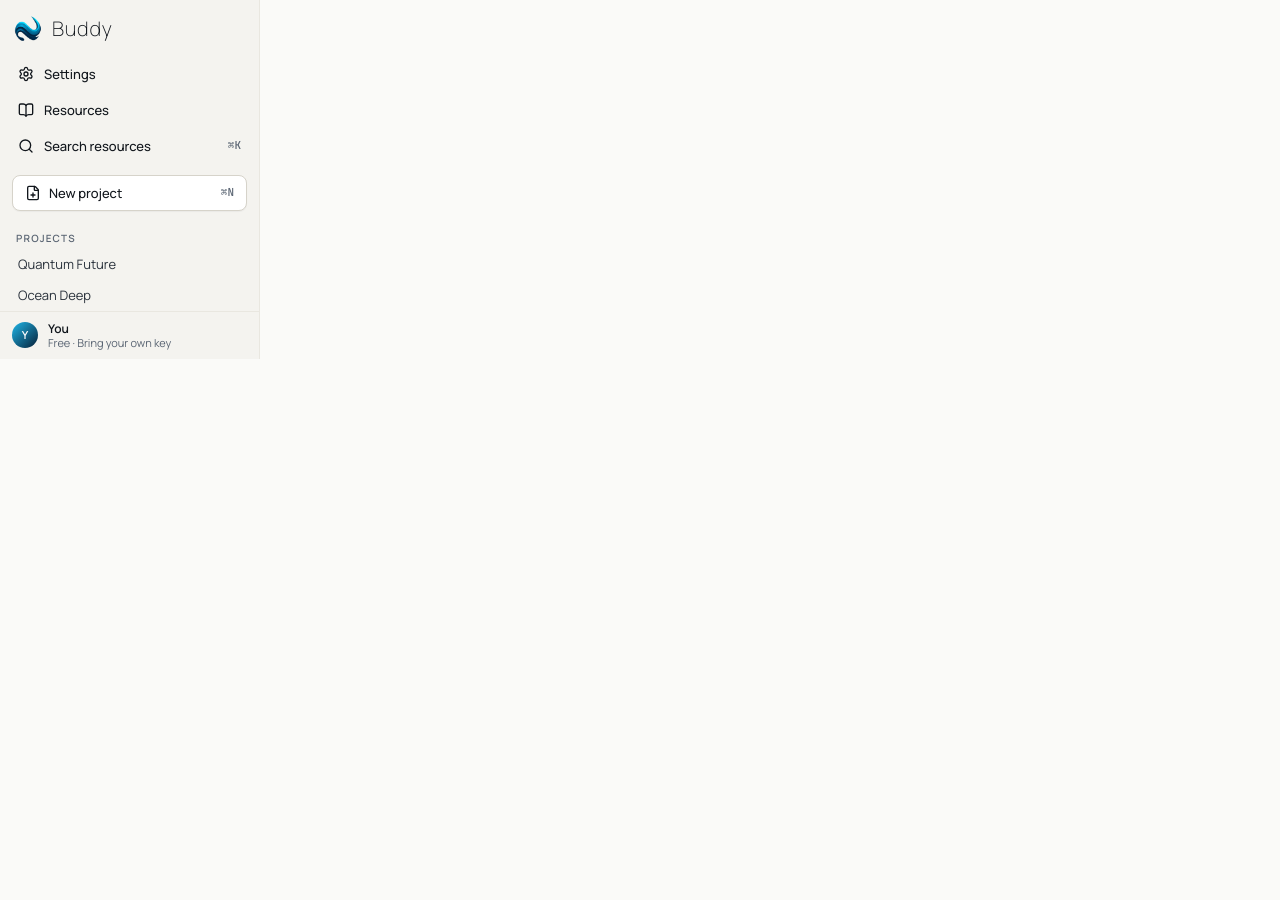
Test: Sidebar — delete confirmation › opens a confirmation dialog when Delete project is clicked
Right-click the button "Quantum Future" at coordinates (130, 264), box [8,250,251,280]
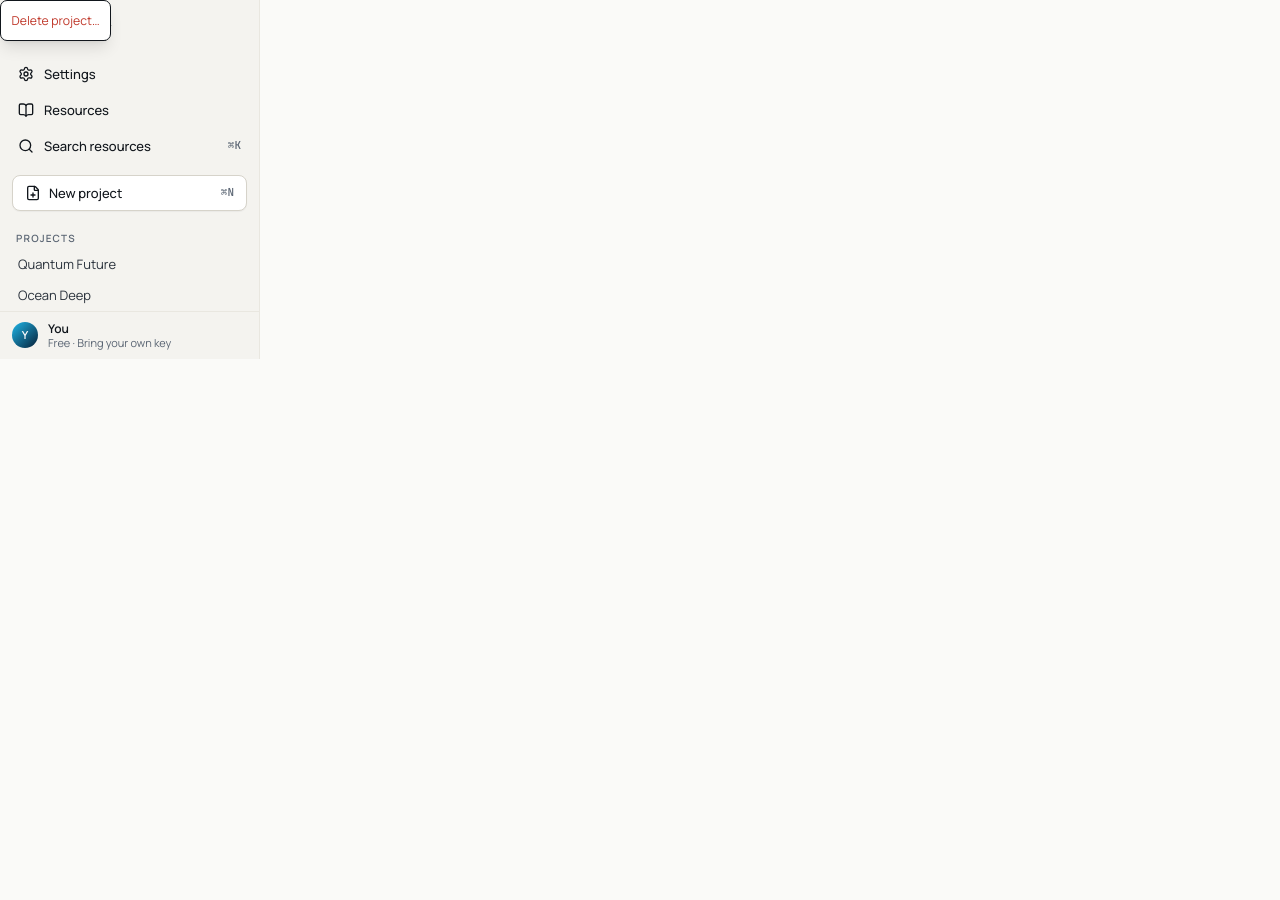
Click the menu item "Delete project…" at coordinates (56, 20), box [1,4,110,36]
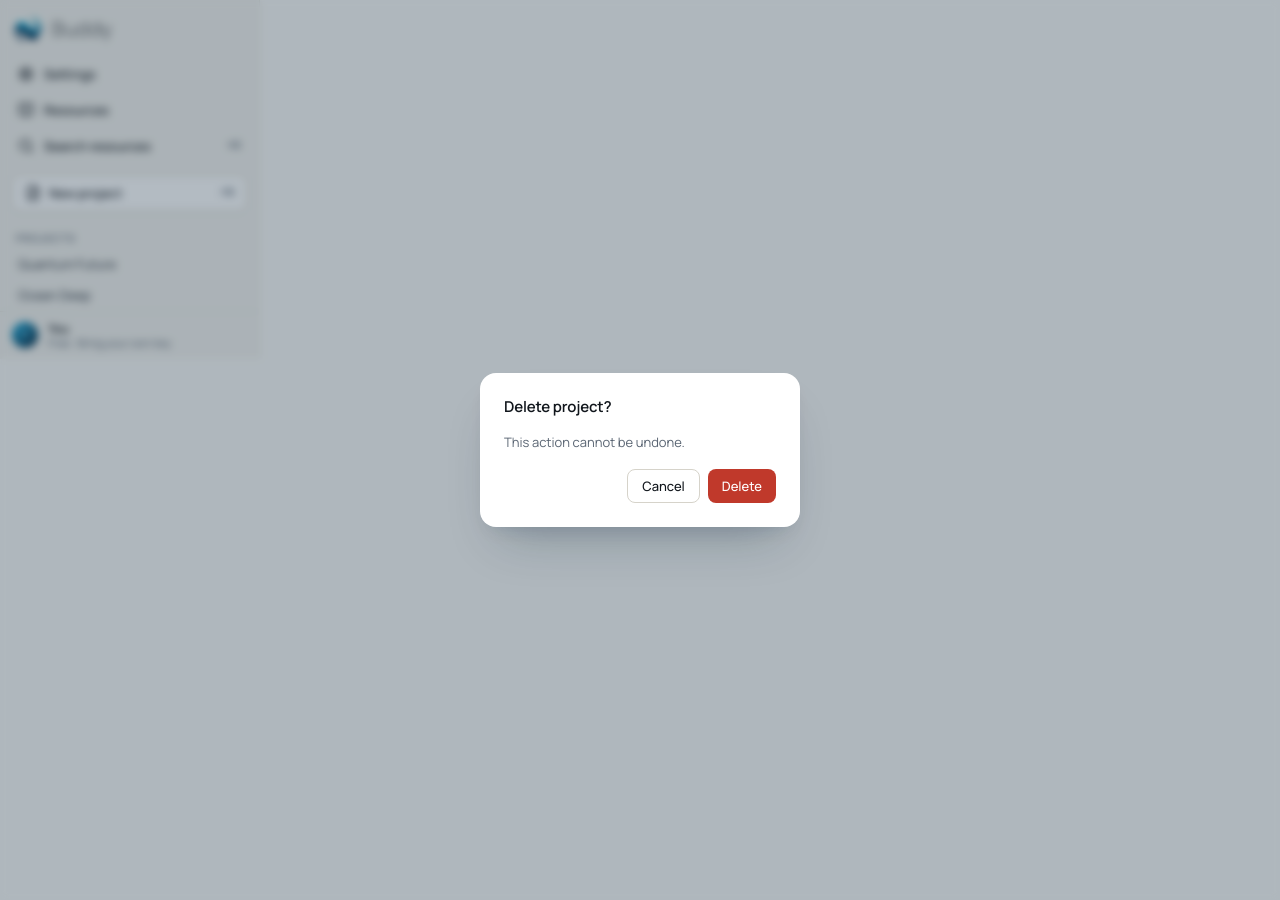
Now the dialog is shown, box [480,373,800,527]
